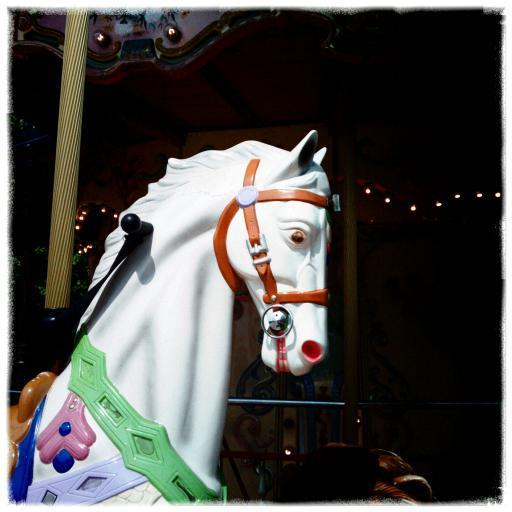horse: (10, 130, 328, 508)
